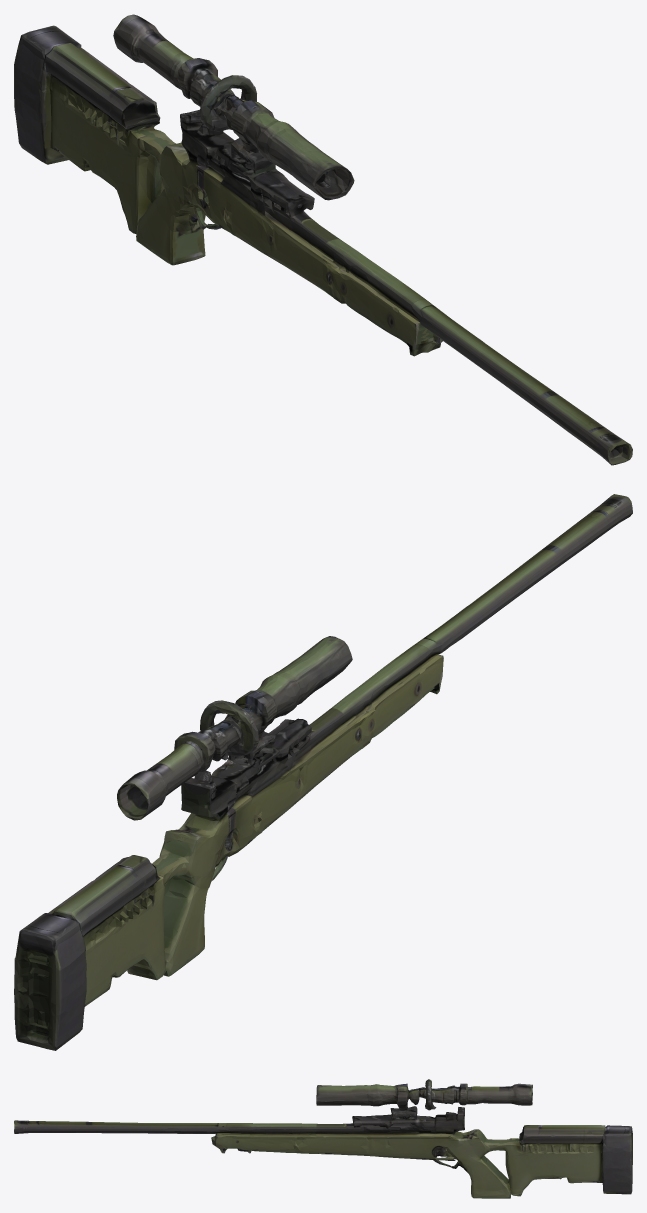
Rendered from Sniper_s_Precision_0620092545_texture.fbx.
The picture shows the model from 3 angles, top to bottom: view 1: azimuth 30°, elevation 25°; view 2: azimuth 150°, elevation 25°; view 3: azimuth 270°, elevation 25°; orthographic projection. The views are drawn at different scales.
Visible parts, largest first — view 1: temp; view 2: temp; view 3: temp.
Boxes of the visible parts, box(x1,y1,x2,y2) form: temp: box(14, 14, 632, 465); temp: box(14, 494, 632, 1050); temp: box(14, 1079, 632, 1198).
Size of the model in its own units: 11.34 by 40.66 by 200.
1 material, 1 textured.
